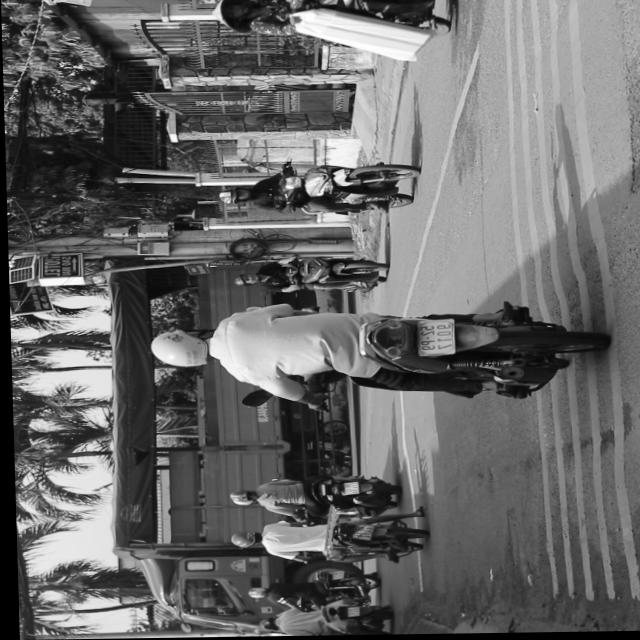helmet: (145, 328, 212, 370), (214, 186, 250, 204), (223, 531, 255, 548), (229, 273, 258, 286)
licenseplate: (142, 296, 600, 412), (207, 0, 476, 67), (212, 161, 417, 220), (222, 512, 423, 566), (227, 254, 386, 296)
motorcyclist: (206, 0, 262, 34)
nohelmet: (413, 321, 450, 355), (348, 524, 367, 541)
